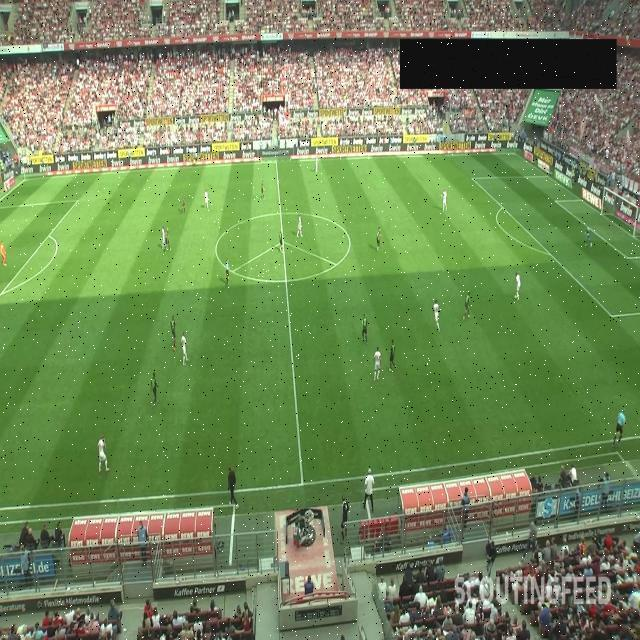Ball: (514, 294, 518, 300)
Corner: (22, 165, 28, 180), (514, 142, 519, 154)
GoalKeeper: (584, 224, 593, 250), (0, 240, 7, 266)
Referee: (612, 408, 626, 448), (225, 258, 230, 286), (194, 148, 198, 168)
TEAM 1: (97, 435, 110, 473), (373, 345, 381, 382), (181, 331, 189, 366), (434, 298, 441, 332), (514, 272, 521, 300), (296, 214, 303, 238), (442, 188, 448, 212), (162, 226, 166, 252), (204, 188, 208, 208), (315, 155, 319, 174)
TEAM 2: (150, 371, 160, 407), (389, 338, 397, 372), (170, 314, 177, 352), (464, 291, 471, 321), (362, 312, 368, 344), (166, 226, 172, 252), (376, 226, 382, 250), (278, 230, 284, 252), (260, 180, 266, 200), (181, 193, 185, 213)
